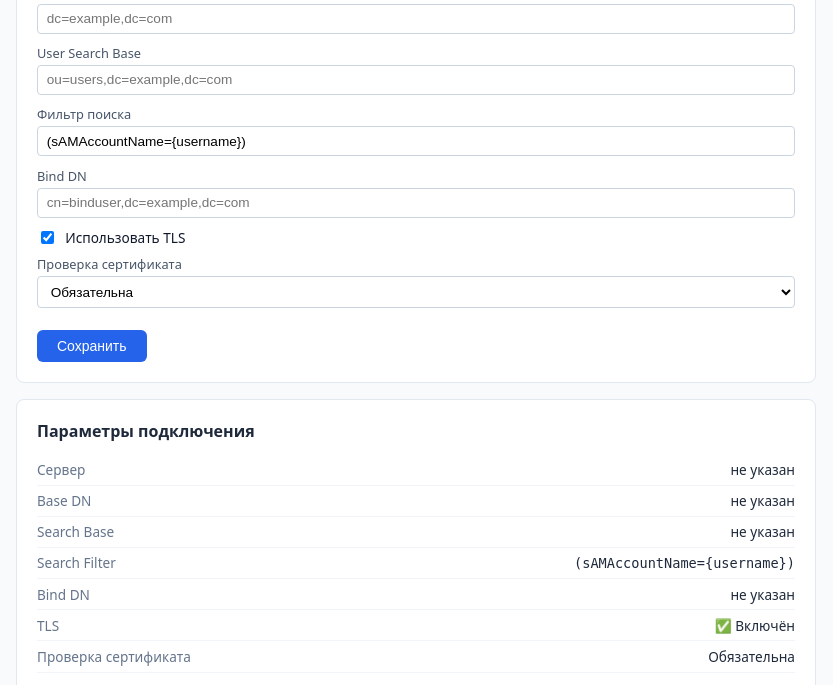
Test: ADSettingsPage — save form RBAC › shows error banner on server error
(page scrolled)
Click the button with test id "adsettings-save-btn" at (92, 346), box [37,330,147,362]
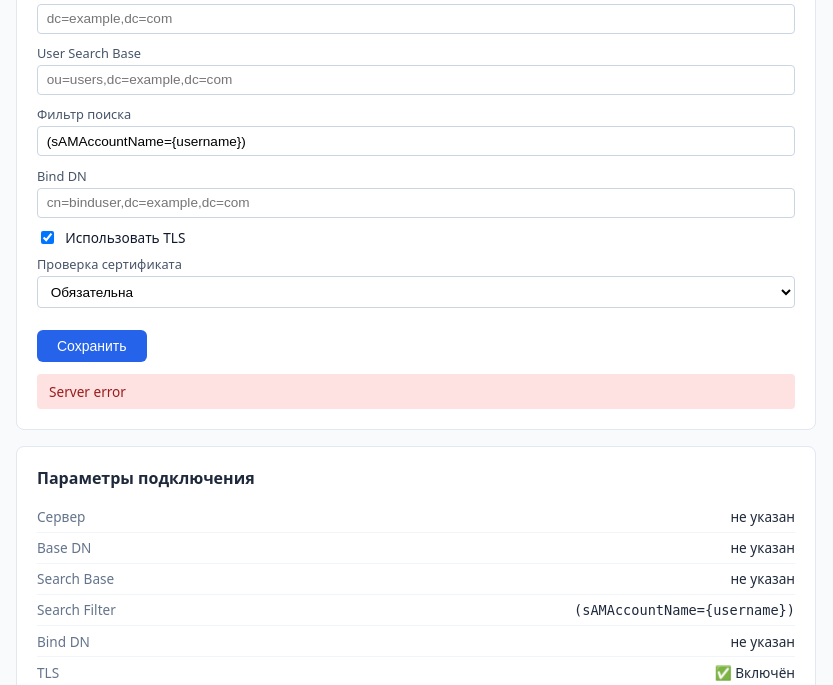
Check: the text "Server error" is shown, box [37,374,795,409]
